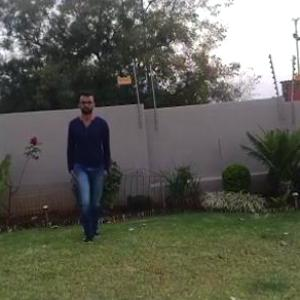follow: (66, 90, 116, 238)
